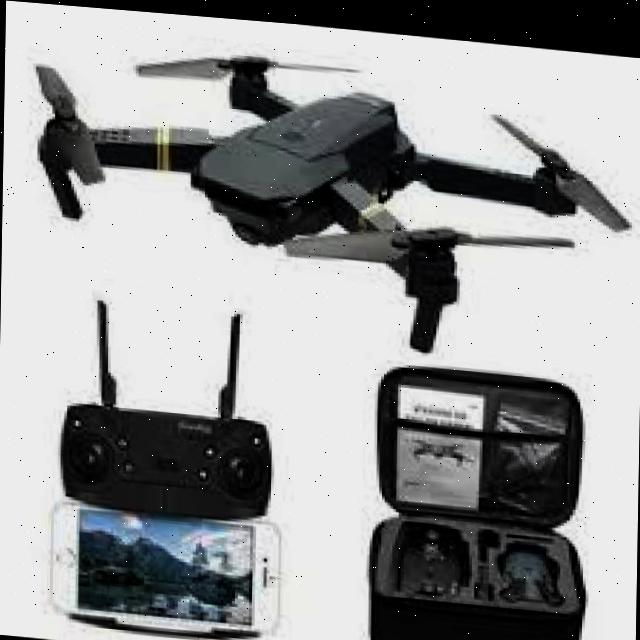drone: (8, 17, 640, 365)
